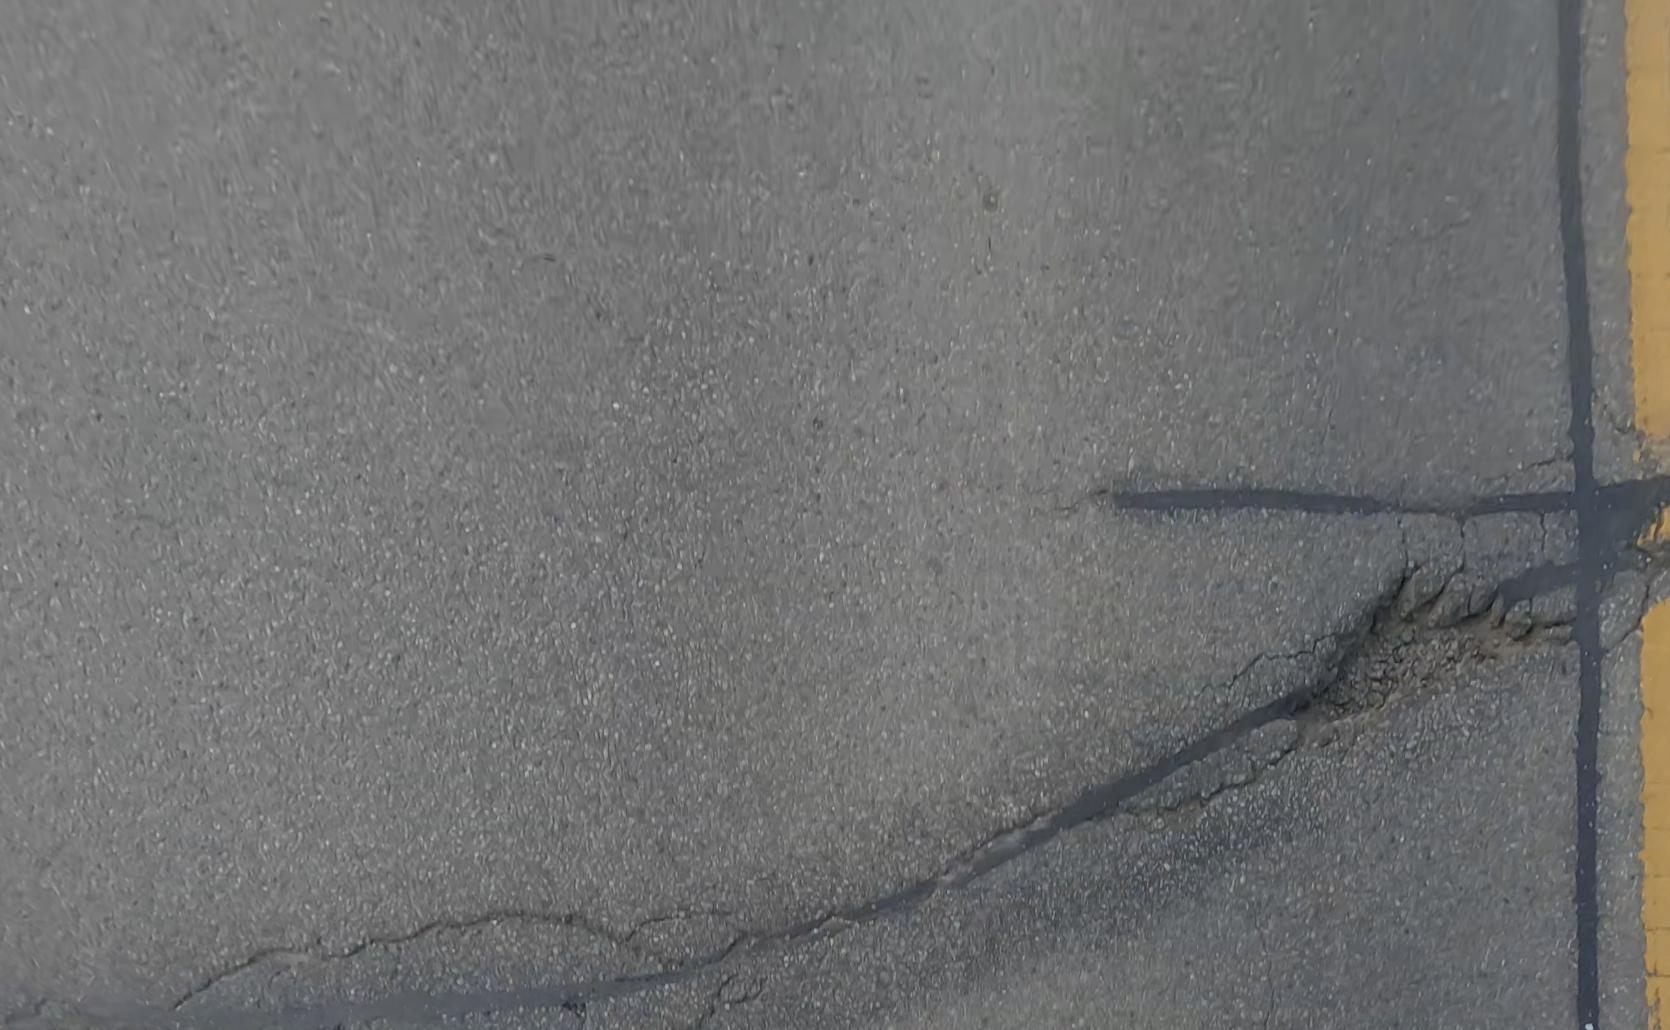pothole: (1301, 590, 1533, 736)
